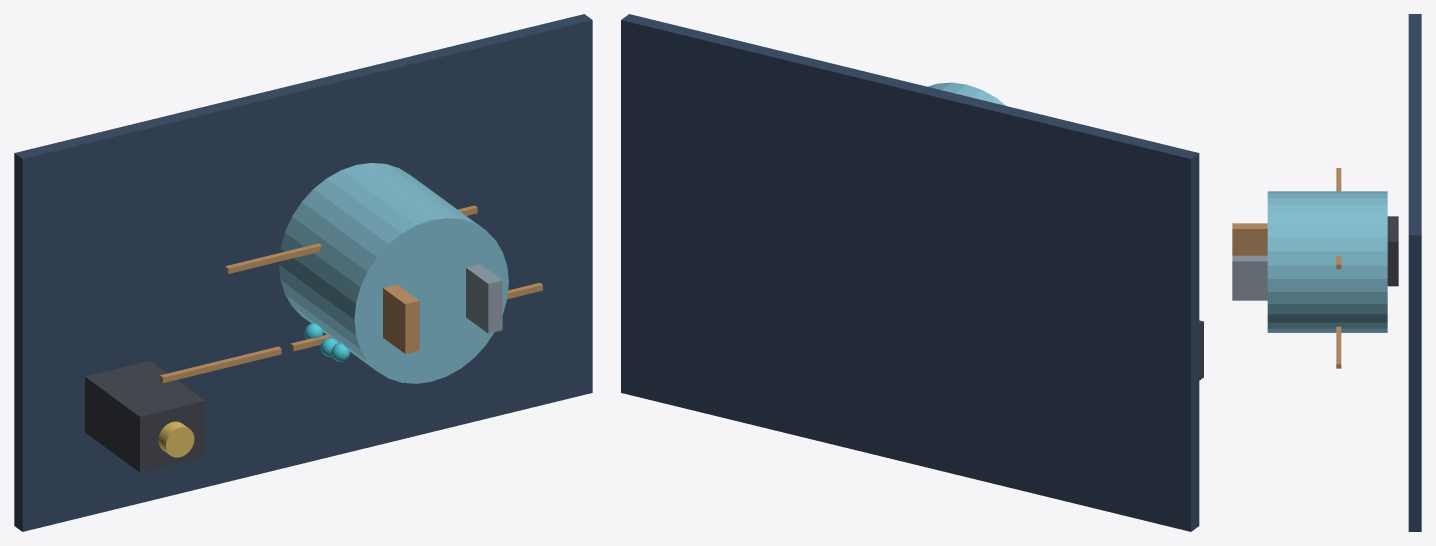
File: chemical-effects-current.glb
The picture shows the model from 3 angles, left to right: view 1: azimuth 30°, elevation 25°; view 2: azimuth 150°, elevation 25°; view 3: azimuth 270°, elevation 25°; orthographic projection. The views are drawn at different scales.
Parts seen in each view (by area): view 1: bench, electrolyte_vessel, battery_body, electrode_cathode, electrode_anode, wire_0, battery_positive, wire_1; view 2: bench; view 3: electrolyte_vessel, bench, electrode_cathode, electrode_anode, battery_body, wire_4.
Part boxes in pixels (x1,y1,x2,y2): bench: (14, 14, 592, 531); electrolyte_vessel: (279, 163, 508, 383); battery_body: (85, 361, 205, 472); electrode_cathode: (466, 264, 502, 333); electrode_anode: (383, 284, 419, 353); wire_0: (160, 346, 281, 383); battery_positive: (158, 421, 194, 457); wire_1: (225, 243, 321, 273); bench: (621, 14, 1199, 531); electrolyte_vessel: (1267, 191, 1387, 332); bench: (1408, 14, 1421, 531); electrode_cathode: (1232, 255, 1267, 300); electrode_anode: (1232, 223, 1267, 255); battery_body: (1387, 216, 1398, 286); wire_4: (1336, 326, 1341, 368).
Size of the model in its own units: 4.8 by 3 by 1.73.
